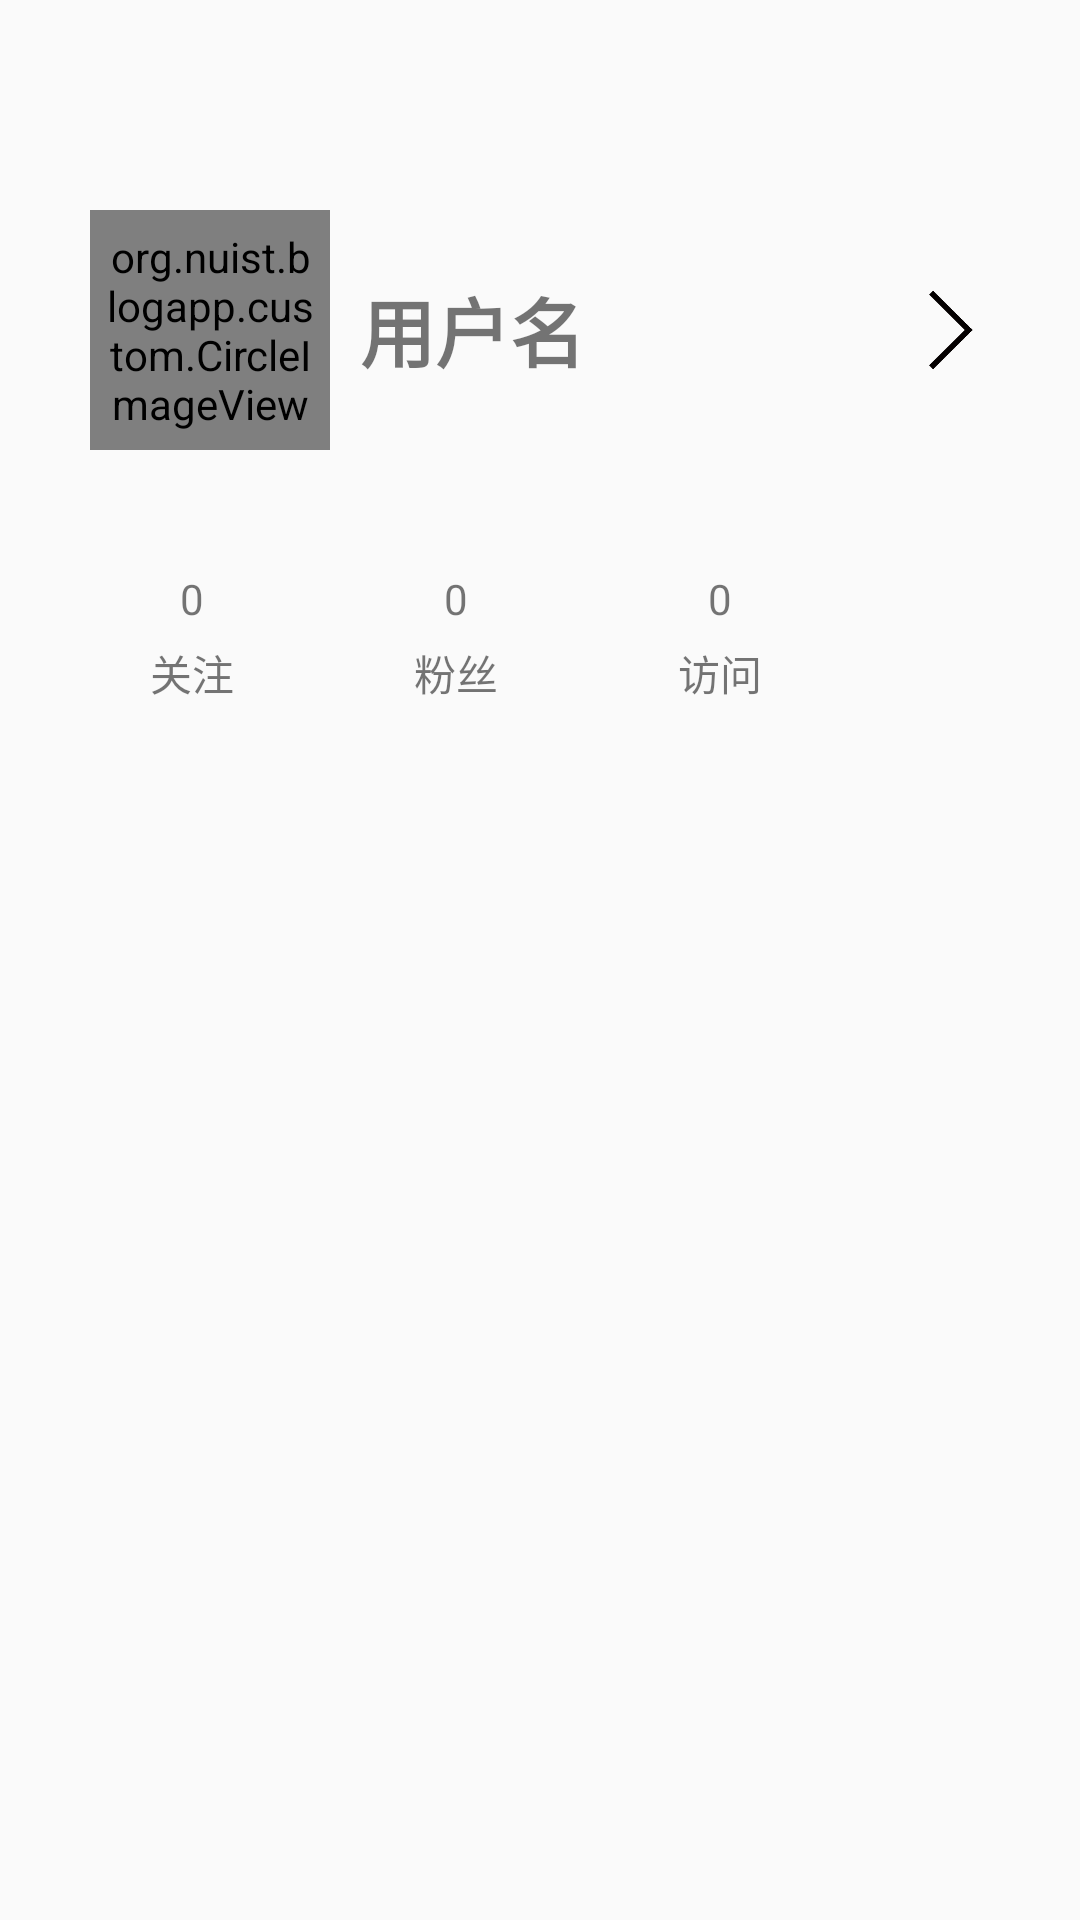

Locate icon controls on the screen. Image size 1080*1920, boxes as (x1, y1, x2, y2).
jump: (929, 291, 973, 369)
